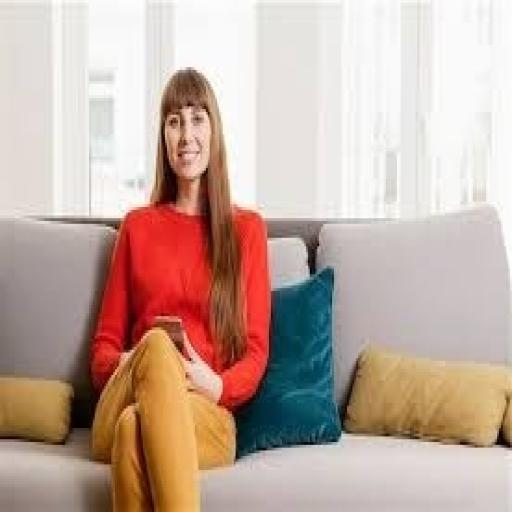sitting: (87, 64, 273, 510)
